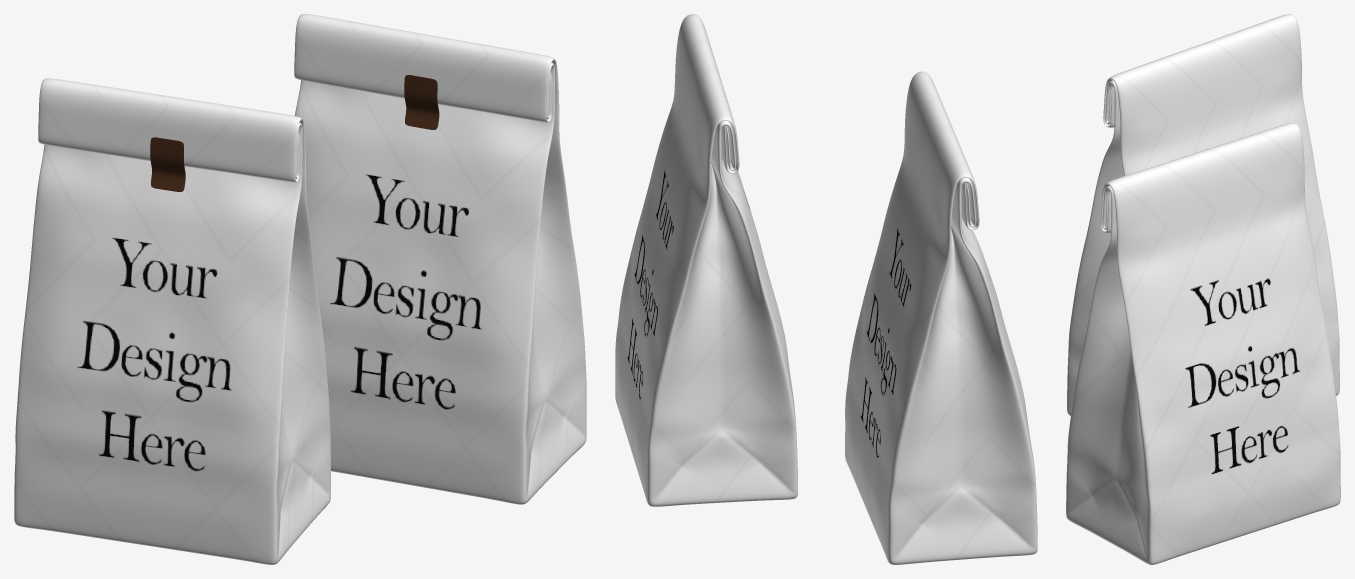
Rendered from Kraft paper A-3.glb.
3 views of the same model, side by side, from view 1: azimuth 30°, elevation 25°; view 2: azimuth 150°, elevation 25°; view 3: azimuth 270°, elevation 25° (orthographic). The views are drawn at different scales.
Visible parts, largest first — view 1: _gltfNode_0.001, _gltfNode_0, _gltfNode_1.001, _gltfNode_1; view 2: _gltfNode_0.001, _gltfNode_0; view 3: _gltfNode_0, _gltfNode_0.001.
Part boxes in pixels (x1,y1,x2,y2): _gltfNode_0.001: (14,78,330,564); _gltfNode_0: (294,14,586,504); _gltfNode_1.001: (150,137,185,191); _gltfNode_1: (404,75,439,129); _gltfNode_0.001: (845,71,1037,564); _gltfNode_0: (615,14,797,506); _gltfNode_0: (1066,122,1340,564); _gltfNode_0.001: (1067,14,1339,416).
Size of the model in its own units: 27.31 by 21.2 by 14.66.
2 materials, 1 textured.
